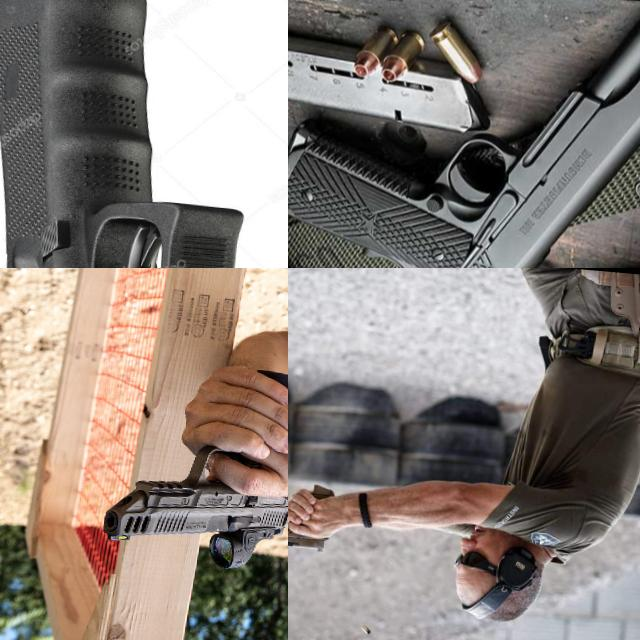handgun: (288, 0, 640, 268), (0, 0, 288, 268), (95, 353, 288, 578), (288, 473, 337, 555)
